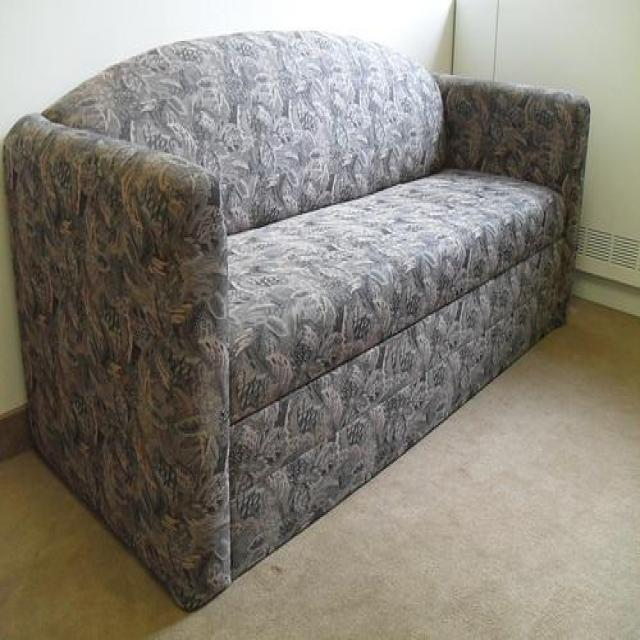sofa: (1, 31, 591, 612)
